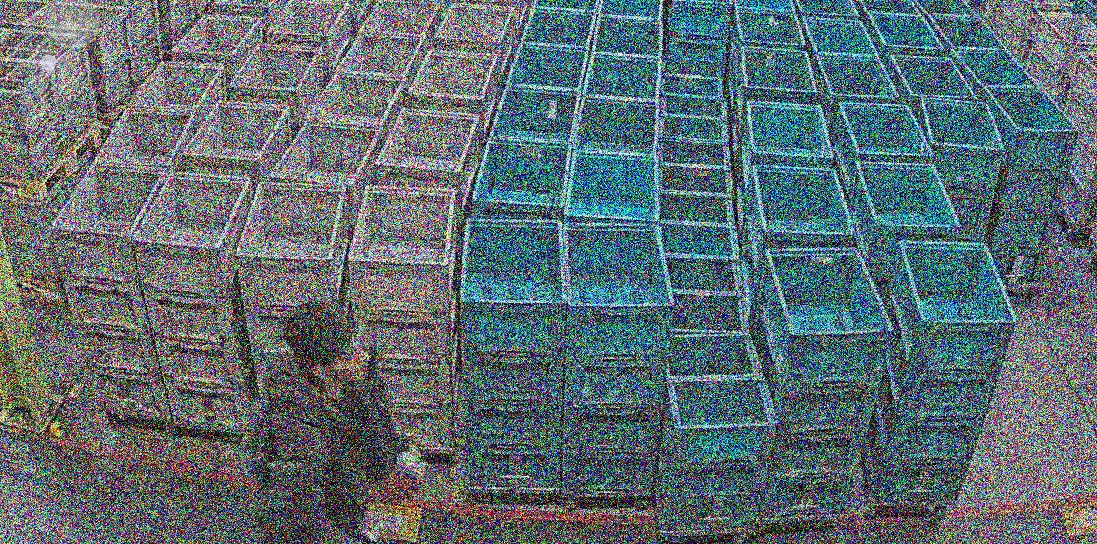4G: (48, 161, 174, 426), (132, 171, 256, 435), (346, 183, 457, 453), (234, 181, 351, 407)
B4: (863, 239, 1019, 503), (758, 246, 894, 523), (561, 221, 678, 500), (458, 219, 569, 492), (920, 96, 1005, 241)
B8: (653, 333, 779, 533)
